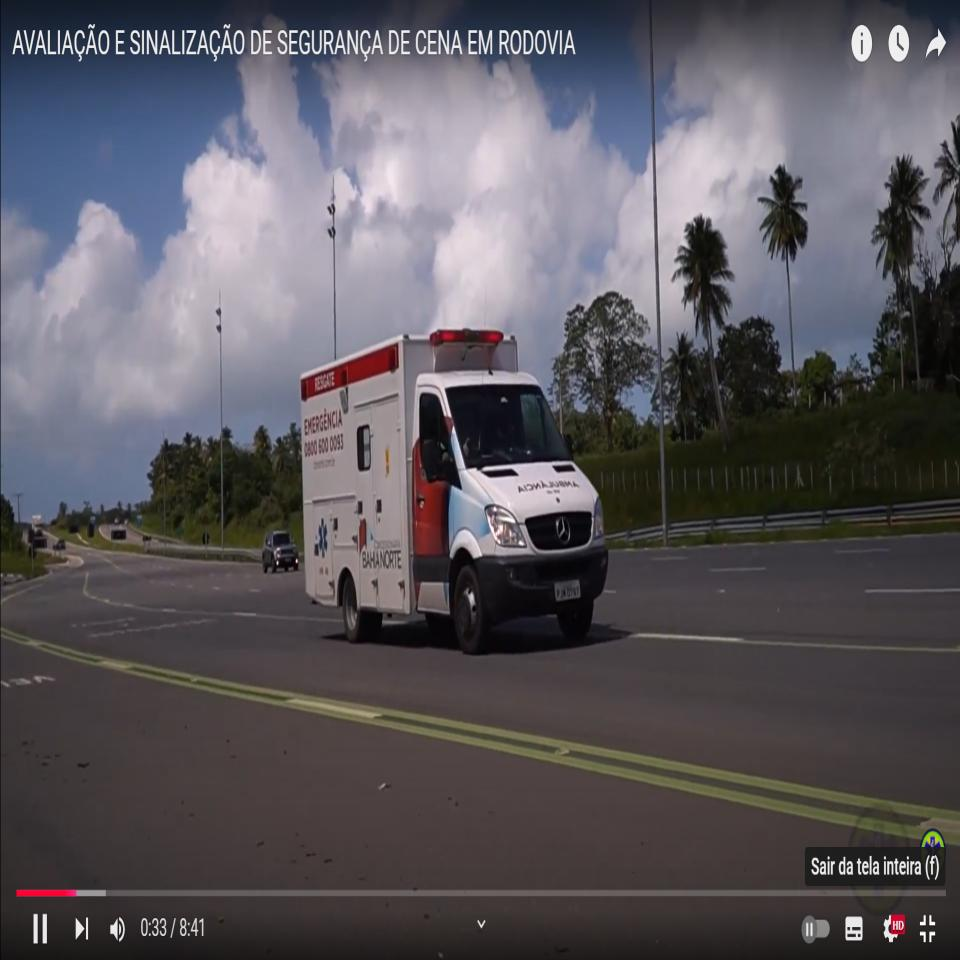bombeiro: (295, 326, 612, 659)
